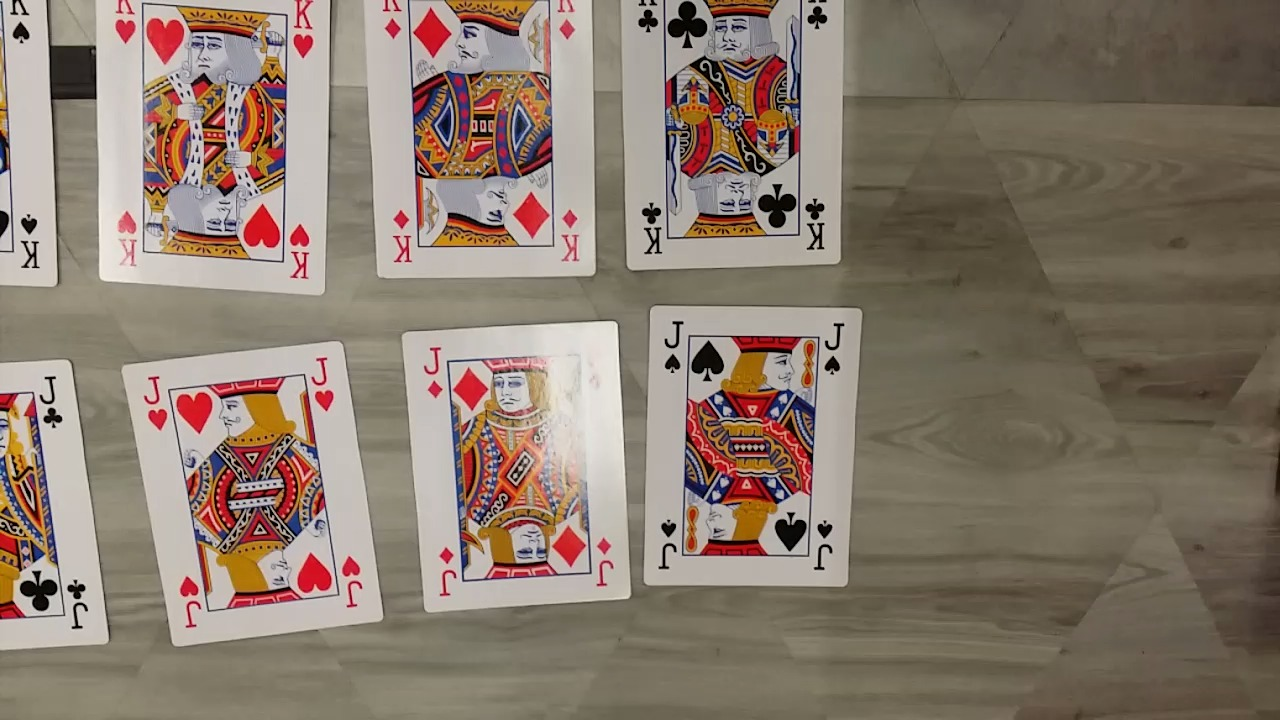10_diamond: (398, 321, 634, 612)
jack_club: (0, 354, 114, 649)
jack_heart: (118, 338, 386, 652)
jack_spade: (639, 303, 864, 587)
king_club: (618, 0, 849, 271)
king_diamond: (350, 0, 573, 310)
king_heart: (96, 0, 327, 296)
